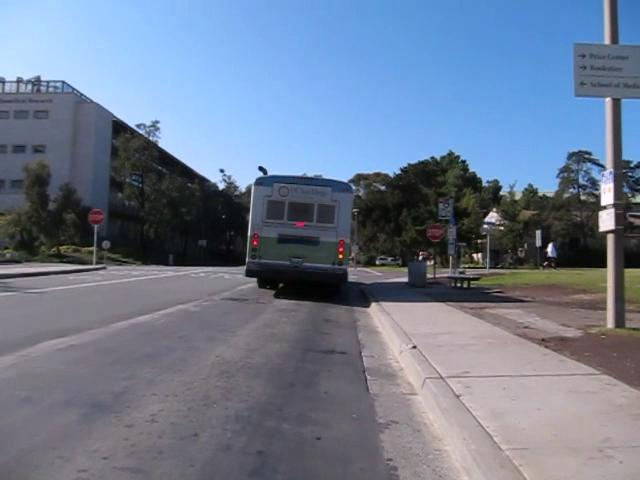stop: (87, 207, 105, 226)
